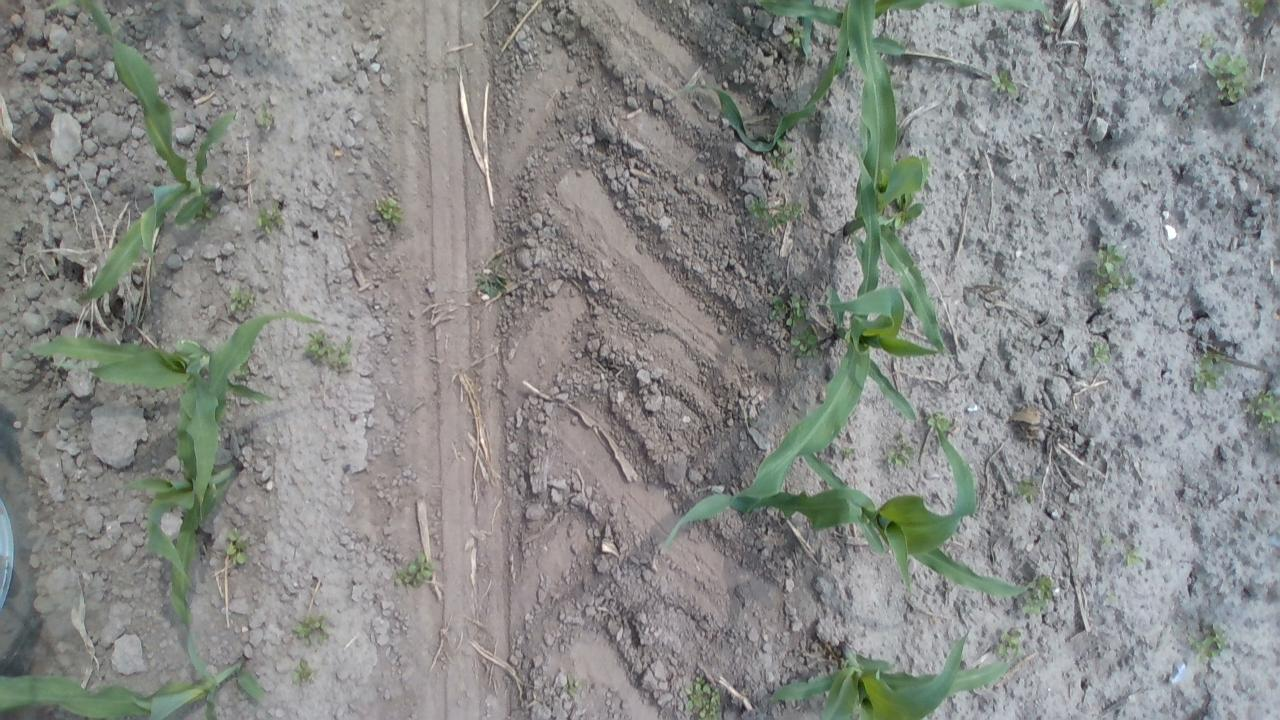Maize: (729, 128, 950, 508), (129, 307, 323, 695), (656, 414, 1046, 600), (44, 0, 236, 306), (678, 1, 1058, 154), (8, 339, 274, 531), (836, 0, 956, 352), (766, 626, 1032, 720), (0, 644, 271, 720)
Weeds: (1204, 49, 1258, 108), (1092, 241, 1138, 310), (1186, 342, 1232, 396), (681, 674, 728, 720), (1186, 622, 1232, 668), (745, 195, 804, 229), (303, 330, 353, 369), (876, 194, 924, 232), (394, 550, 436, 590), (1244, 386, 1280, 432), (367, 191, 405, 232), (768, 288, 806, 324), (294, 613, 332, 648), (476, 260, 510, 299), (1023, 574, 1054, 616), (222, 526, 252, 568), (254, 200, 288, 236), (884, 431, 916, 469), (788, 328, 824, 360), (224, 279, 256, 315), (781, 23, 813, 52), (996, 628, 1024, 658), (927, 408, 954, 439), (772, 138, 796, 172), (988, 67, 1016, 95), (1120, 544, 1148, 572), (1088, 339, 1112, 371), (291, 658, 318, 686), (254, 102, 280, 131), (558, 671, 584, 697), (1016, 475, 1040, 503), (194, 199, 217, 227), (1237, 0, 1270, 18), (1194, 30, 1220, 51), (1144, 0, 1170, 18), (232, 362, 252, 377), (1098, 531, 1114, 549), (841, 444, 854, 460)
